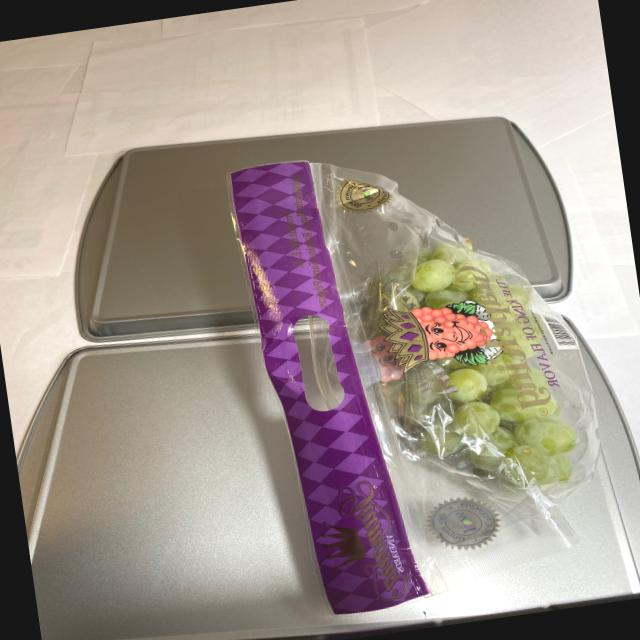grapes: (354, 217, 588, 522)
